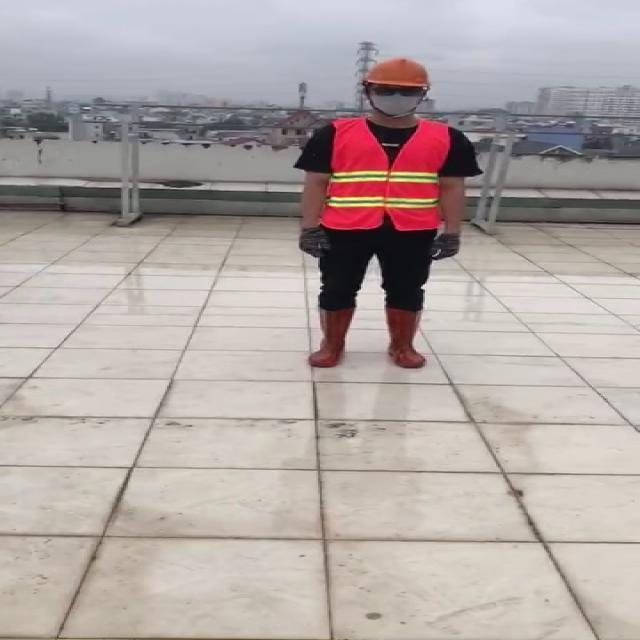gloves: (292, 224, 331, 262), (429, 230, 467, 264)
helmet: (356, 54, 439, 98)
safety_vest: (324, 112, 452, 233)
